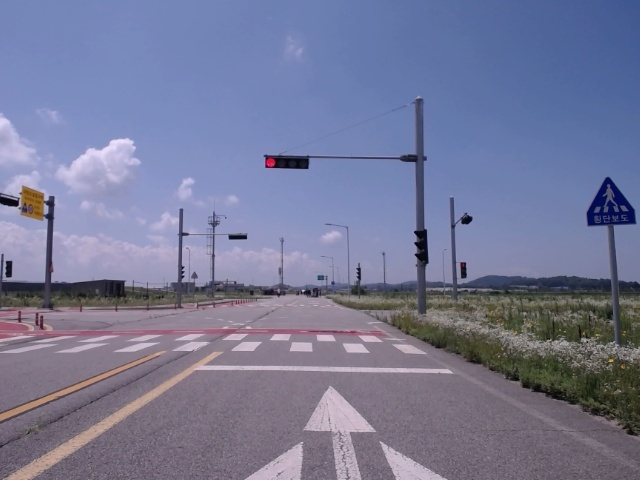red_4: (265, 157, 309, 169)
